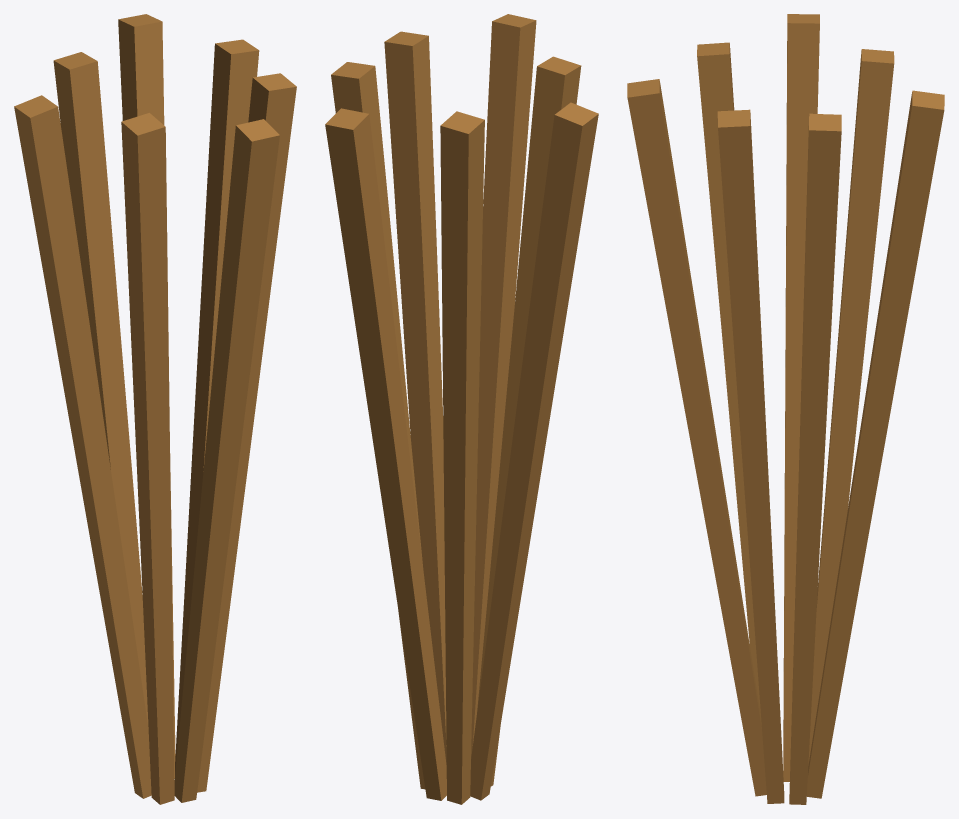
Rendered from SM_Cook_ChopstickBundle_01.glb.
The picture shows the model from 3 angles, left to right: view 1: azimuth 30°, elevation 25°; view 2: azimuth 150°, elevation 25°; view 3: azimuth 270°, elevation 25°; orthographic projection.
Parts seen in each view (by area): view 1: SM_Cook_ChopstickBundle_01; view 2: SM_Cook_ChopstickBundle_01; view 3: SM_Cook_ChopstickBundle_01.
Boxes of the visible parts, box(x1,y1,x2,y2) form: SM_Cook_ChopstickBundle_01: box(14, 14, 296, 804); SM_Cook_ChopstickBundle_01: box(325, 14, 598, 804); SM_Cook_ChopstickBundle_01: box(627, 14, 944, 804).
Size of the model in its own units: 0.0851 by 0.2415 by 0.0973.
Materials: 1 (1 with a texture image).
